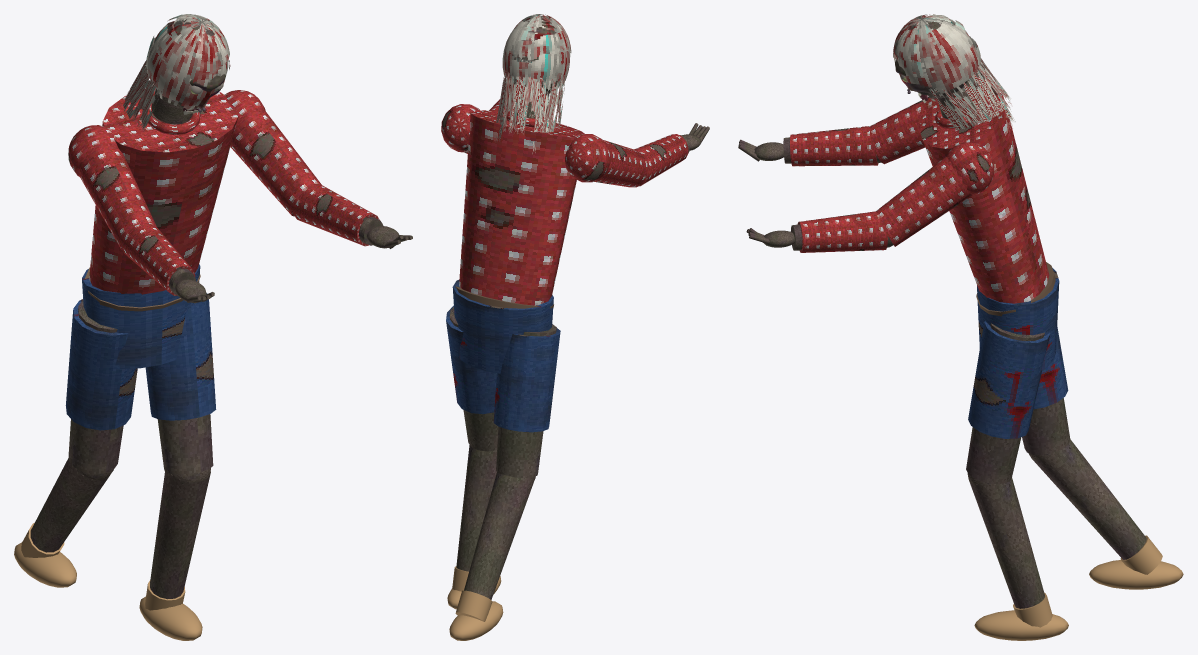
Rendered from Zombie_050.glb.
3 renders of one model, left to right at view 1: azimuth 30°, elevation 25°; view 2: azimuth 150°, elevation 25°; view 3: azimuth 270°, elevation 25°, orthographic. The views are drawn at different scales.
Parts seen in each view (by area): view 1: Zombie_050, object 45, object 12, object 4, object 46, object 18, object 56; view 2: Zombie_050, object 46, object 4, object 45, object 52, object 54, object 51, object 53, object 55; view 3: Zombie_050, object 46, object 12, object 4, object 45, object 48, object 50.
Part boxes in pixels (left/top/right/bottom): Zombie_050: left=14, top=88, right=321, bottom=640; object 45: left=153, top=14, right=230, bottom=86; object 12: left=292, top=183, right=379, bottom=246; object 4: left=121, top=222, right=195, bottom=295; object 46: left=146, top=14, right=228, bottom=109; object 18: left=167, top=23, right=225, bottom=109; object 56: left=132, top=79, right=162, bottom=131; Zombie_050: left=441, top=91, right=649, bottom=640; object 46: left=502, top=16, right=569, bottom=88; object 4: left=634, top=134, right=688, bottom=186; object 45: left=512, top=14, right=571, bottom=57; object 52: left=509, top=59, right=534, bottom=134; object 54: left=532, top=77, right=553, bottom=153; object 51: left=503, top=57, right=520, bottom=132; object 53: left=523, top=60, right=544, bottom=118; object 55: left=542, top=70, right=566, bottom=132; Zombie_050: left=869, top=80, right=1183, bottom=640; object 46: left=896, top=15, right=981, bottom=101; object 12: left=797, top=211, right=887, bottom=252; object 4: left=790, top=126, right=878, bottom=166; object 45: left=893, top=14, right=972, bottom=76; object 48: left=942, top=86, right=991, bottom=126; object 50: left=974, top=62, right=1015, bottom=128.
Size of the model in its own units: 0.7294 by 2.04 by 1.35.
Materials: 16 (6 with a texture image).
